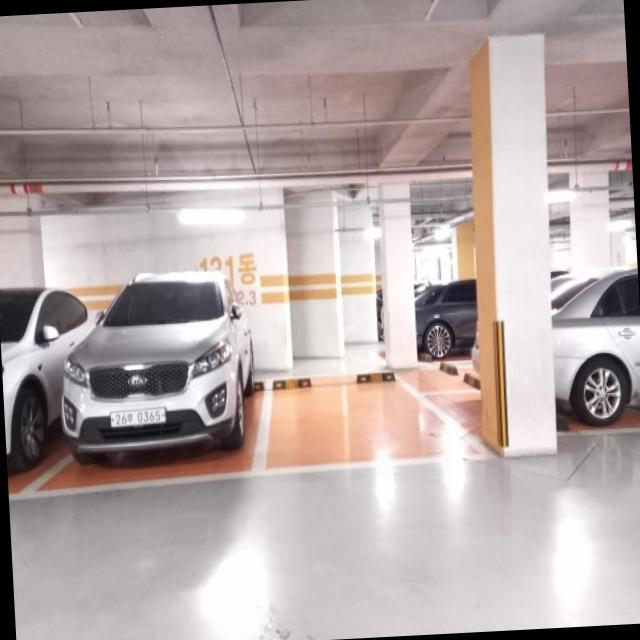empty: (270, 366, 452, 484)
occupied: (58, 266, 256, 478)
